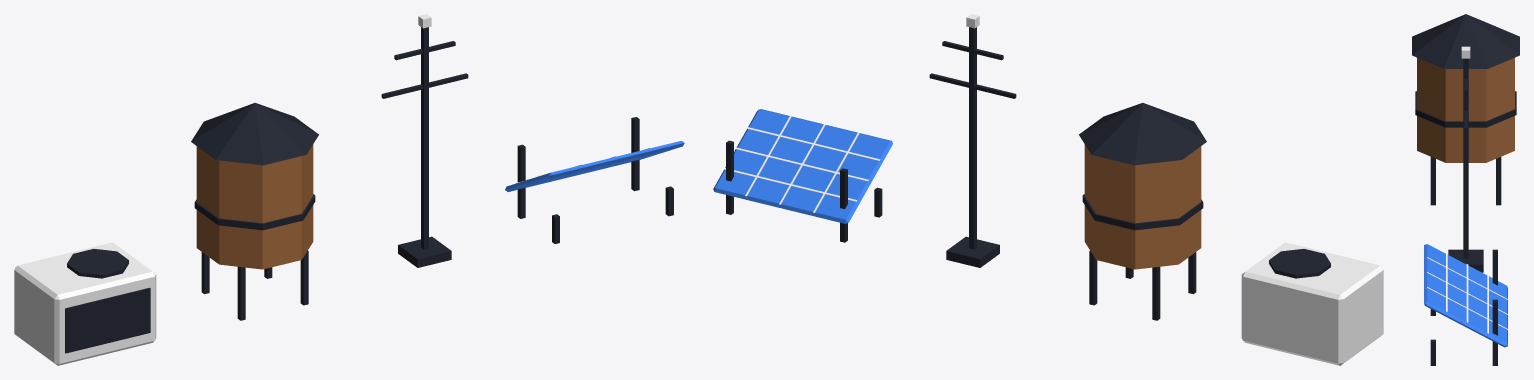
File: rooftop-set.glb
3 views of the same model, side by side, from view 1: azimuth 30°, elevation 25°; view 2: azimuth 150°, elevation 25°; view 3: azimuth 270°, elevation 25° (orthographic). The views are drawn at different scales.
Visible parts, largest first — view 1: water_tank, ac_unit, antenna, solar_panel; view 2: water_tank, ac_unit, solar_panel, antenna; view 3: water_tank, solar_panel, antenna.
Part boxes in pixels (x1,y1,x2,y2): water_tank: (191, 103, 318, 320); ac_unit: (14, 242, 156, 365); antenna: (381, 14, 468, 267); solar_panel: (505, 117, 684, 243); water_tank: (1079, 103, 1206, 320); ac_unit: (1241, 242, 1383, 365); solar_panel: (713, 109, 892, 242); antenna: (929, 14, 1016, 267); water_tank: (1412, 14, 1519, 205); solar_panel: (1424, 244, 1507, 365); antenna: (1448, 46, 1483, 272).
Bounding box in the file's own units: 7.4 × 2.7 × 1.22.
